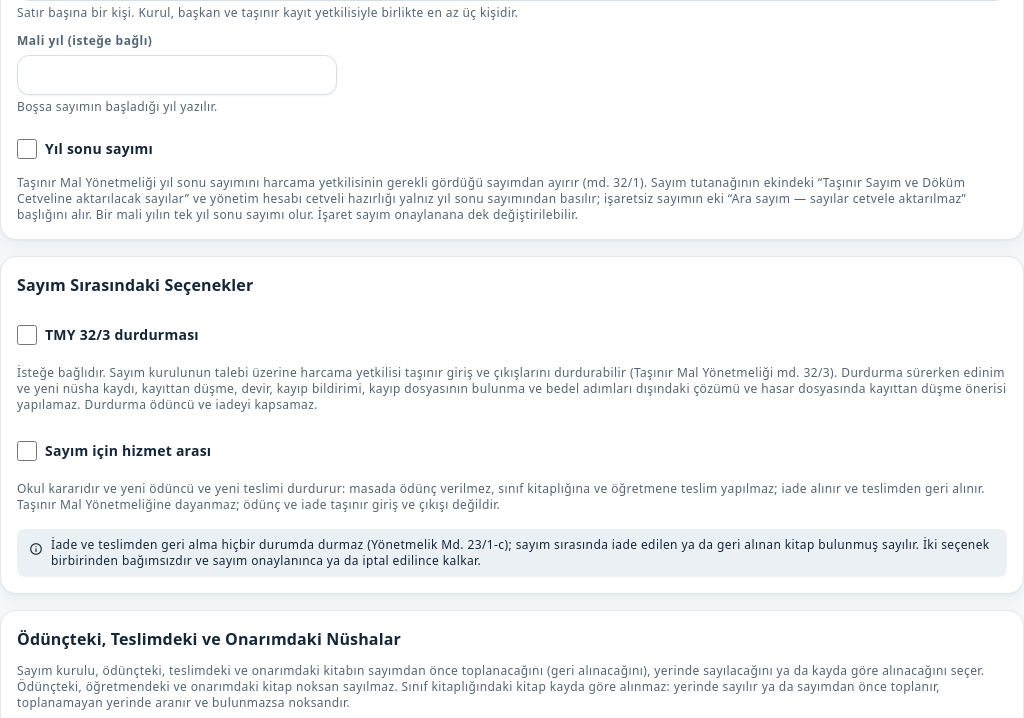
Test: Taslak — kurul, iki ayrı seçenek, kurulun seçimi › iki seçenek açıklamalı ve bağımsızdır; durdurma alanları yalnız seçilince çıkar
(page scrolled)
Expected: the heading "Sayım Sırasındaki Seçenekler" is shown, [17,274,253,296]
Expected: the field labelled "Kurulun talep tarihi" is not shown
Click the checkbox labelled "TMY 32/3 durdurması". click: (27, 335)
box: [17,325,37,345]
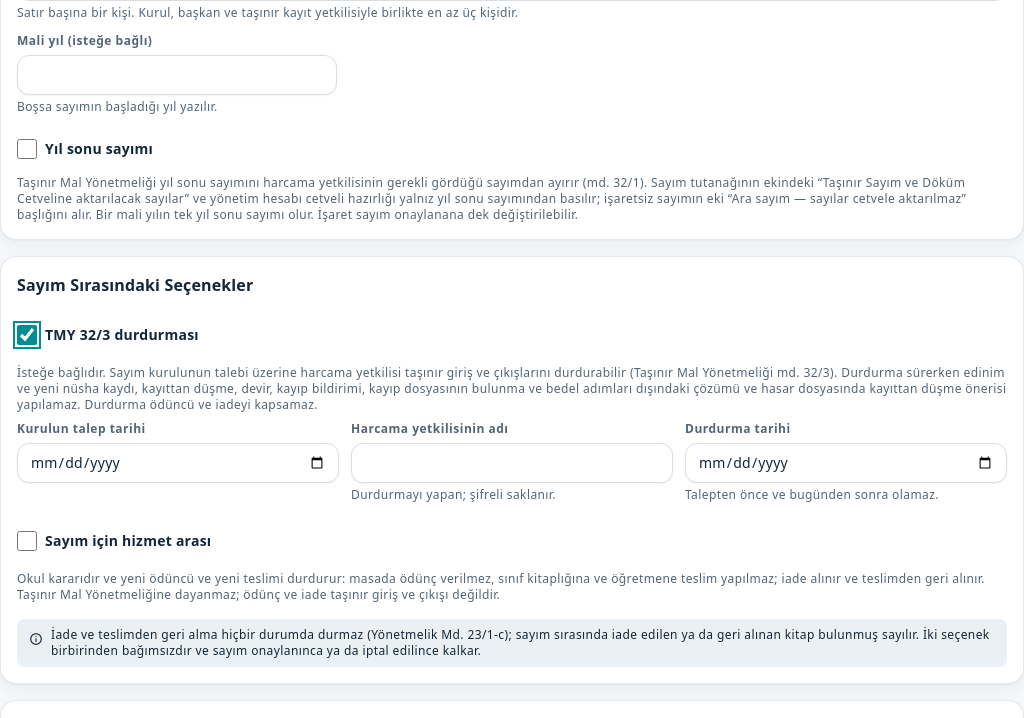
Expected: the checkbox labelled "Sayım için hizmet arası" is not checked, [17,531,37,551]
Now the date field labelled "Kurulun talep tarihi" is shown, box [30,452,326,474]
Now the date field labelled "Durdurma tarihi" is shown, box [698,452,994,474]
